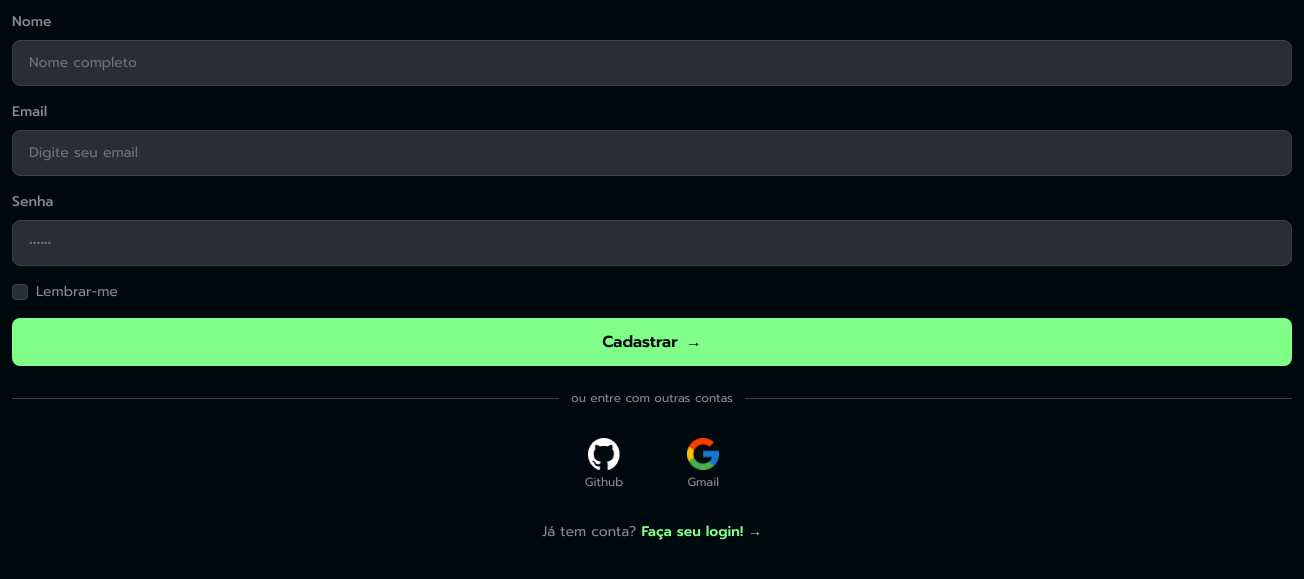
Test: RegisterForm › shows password length error when too short
This screenshot has width=1304, height=579.
In the field labelled "Nome": point(652, 63) [12, 40, 1292, 86], type "João Silva"
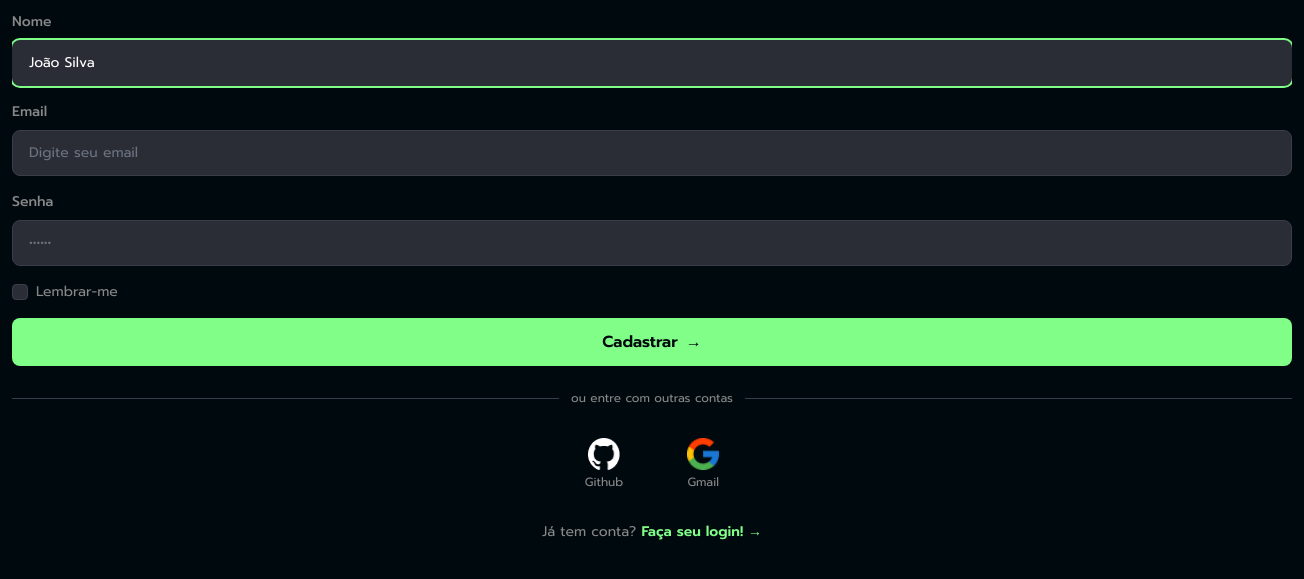
In the field labelled "Email": point(652, 153) [12, 130, 1292, 176], type "joao@test.com"
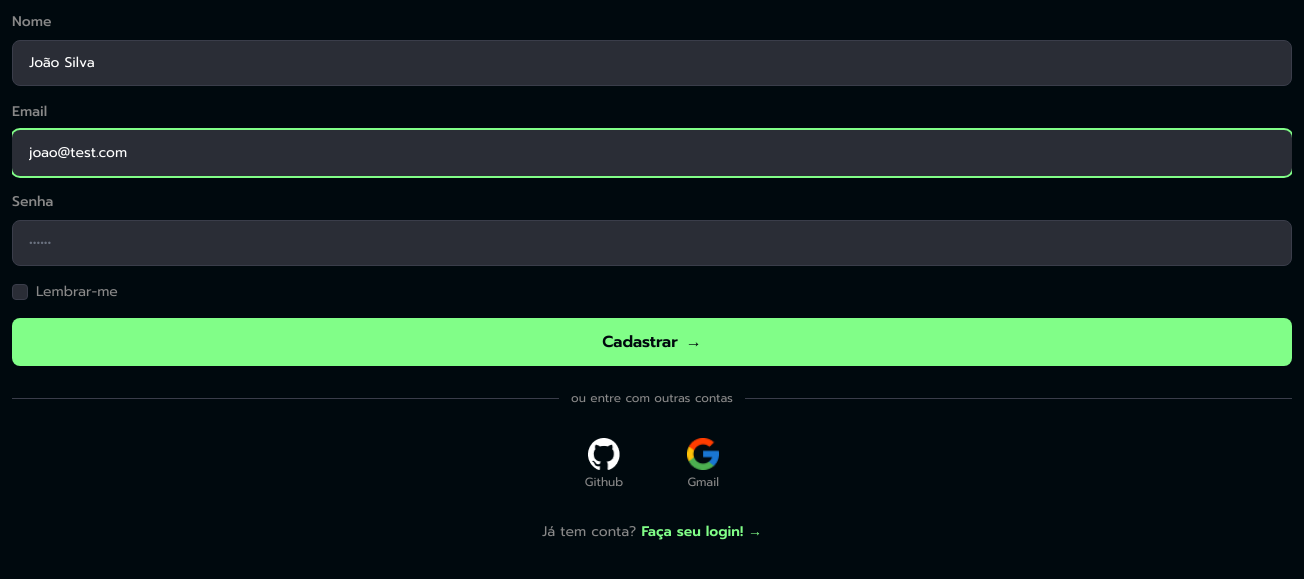
In the password field labelled "Senha": point(652, 243) [12, 220, 1292, 266], type "123"
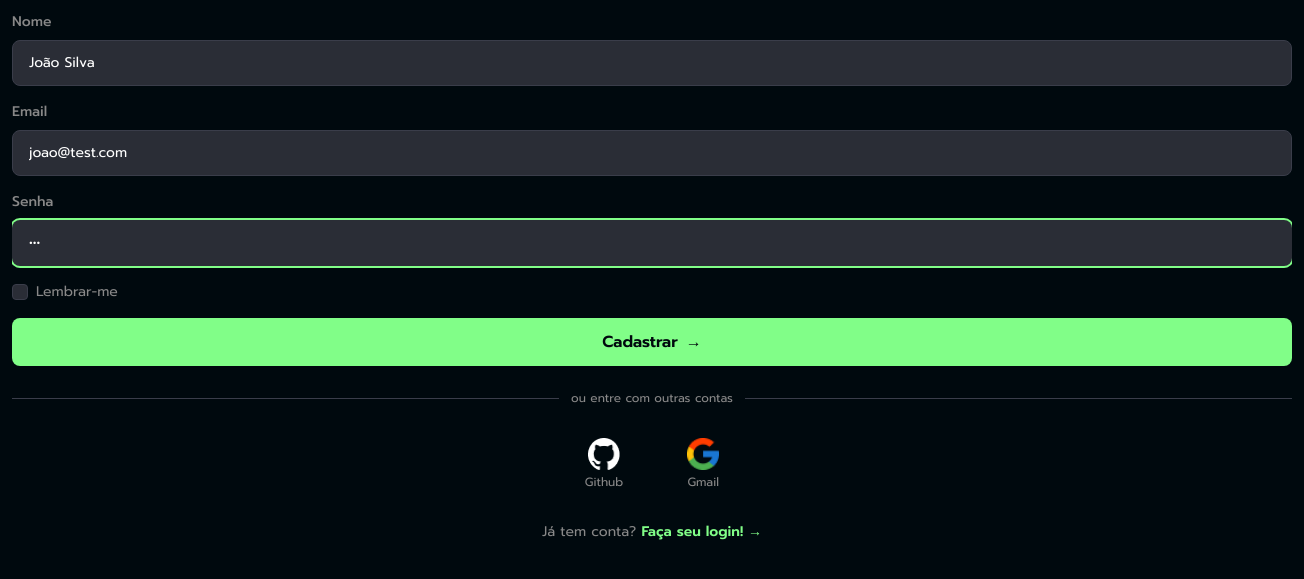
Click the button "Cadastrar →": point(652, 342) [12, 318, 1292, 366]
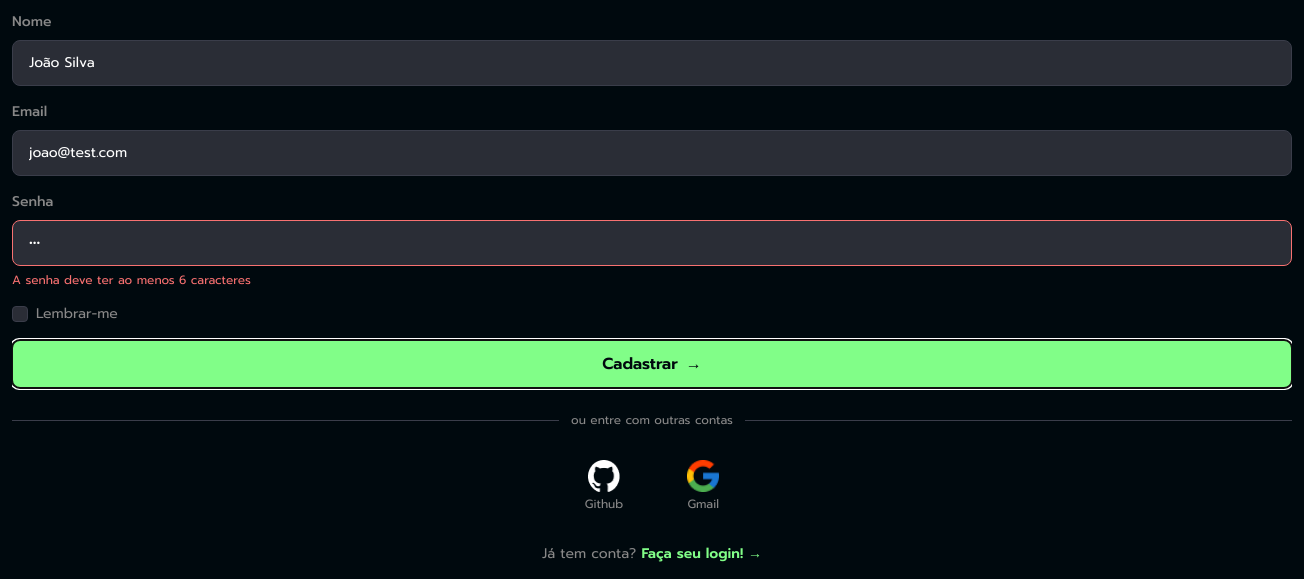
Check: the text "A senha deve ter ao menos 6 caracteres" is shown, box [12, 271, 251, 289]
